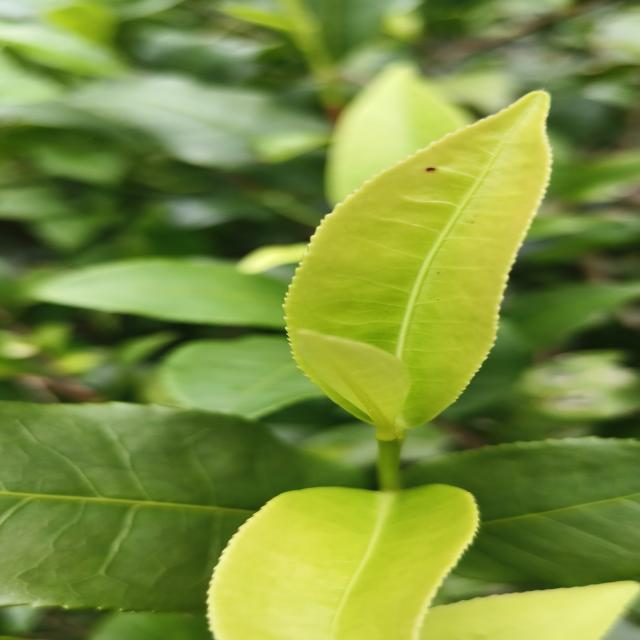Leaf: (285, 92, 549, 429), (0, 401, 366, 612), (208, 484, 478, 640), (405, 437, 640, 587), (66, 74, 326, 167), (325, 63, 470, 204), (30, 259, 287, 329), (160, 335, 325, 419), (419, 582, 640, 640), (502, 282, 640, 349)
